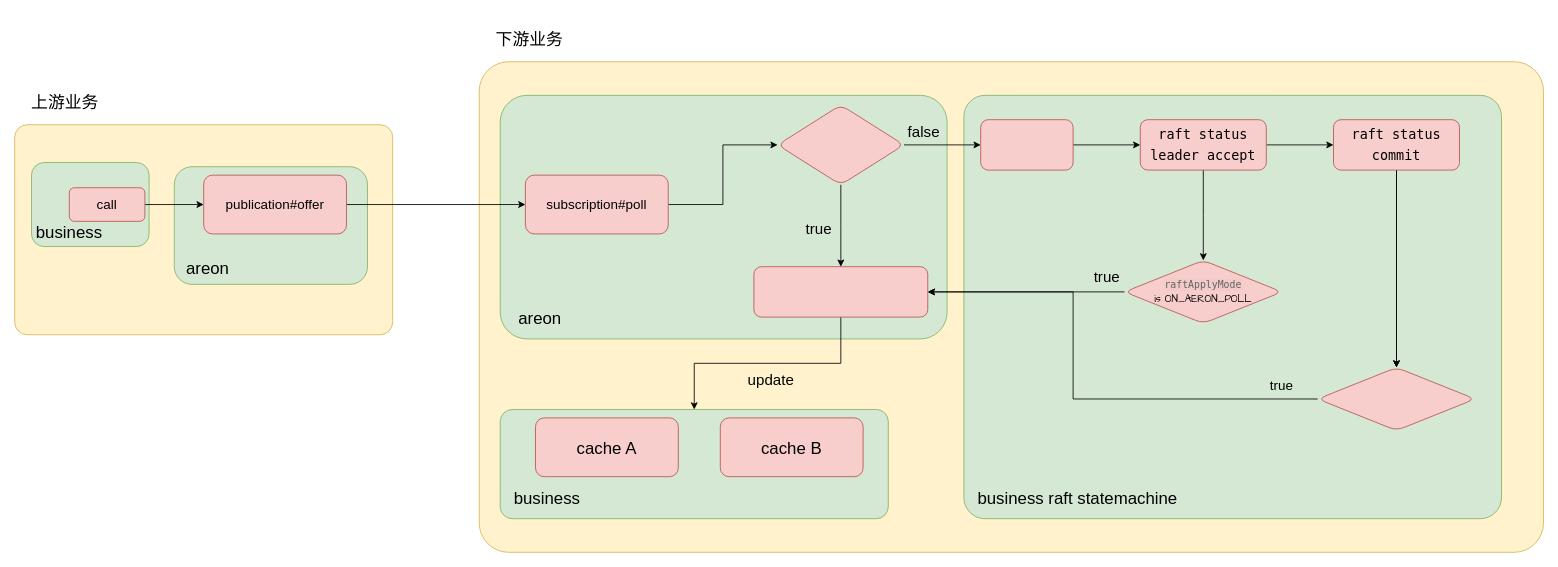
Image size: 1558x567. Some labels were removed from this diagram. The box of each missing label's shape, as (x1, y1, x2, y2) in pixels:
raft#apply: (980, 119, 1073, 170)
raftApplyMode is AFTER_COMMIT: (1317, 367, 1475, 430)
raftApplyMode is DISABLE: (777, 104, 904, 185)
subscriber# onMessage: (753, 266, 928, 317)
